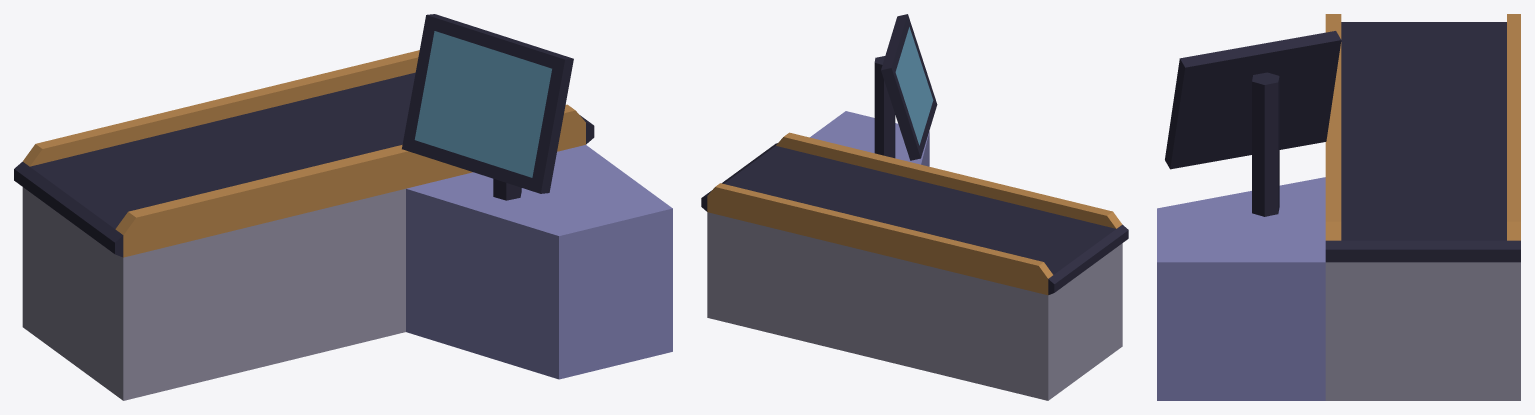
Rendered from Register2.fbx.
3 renders of one model, left to right at view 1: azimuth 30°, elevation 25°; view 2: azimuth 150°, elevation 25°; view 3: azimuth 270°, elevation 25°, orthographic. The views are drawn at different scales.
Parts seen in each view (by area): view 1: Register2; view 2: Register2; view 3: Register2.
Boxes of the visible parts, <box> form: Register2: <box>14,14,672,400</box>; Register2: <box>701,14,1128,400</box>; Register2: <box>1157,14,1520,400</box>.
Bounding box in the file's own units: 196 × 120 × 133.
